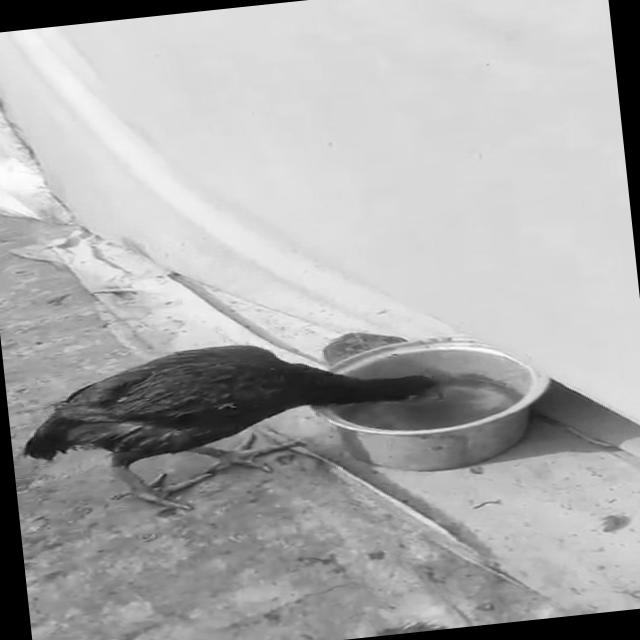drinking: (0, 288, 471, 515)
